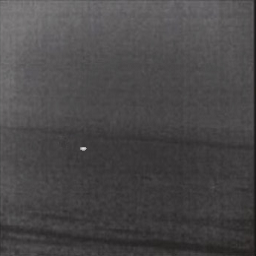Target: (79, 146, 88, 152)
